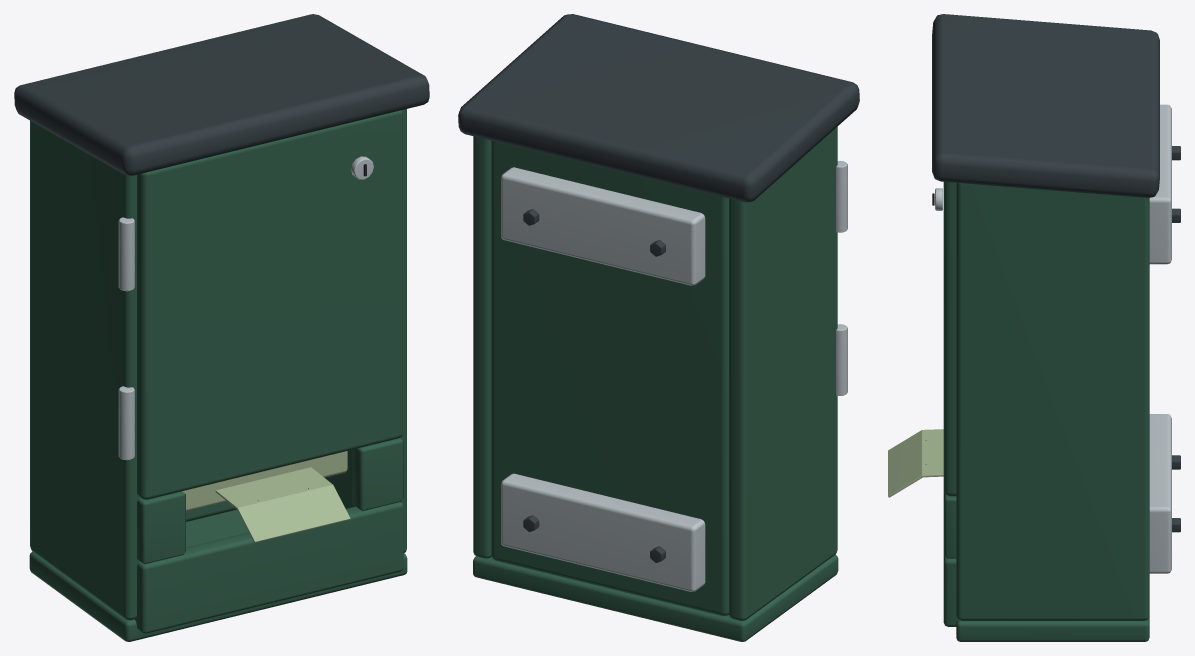
Rendered from city-pet-bag-dispenser.glb.
3 renders of one model, left to right at view 1: azimuth 30°, elevation 25°; view 2: azimuth 150°, elevation 25°; view 3: azimuth 270°, elevation 25°, orthographic. The views are drawn at different scales.
Visible parts, largest first — view 1: Refill access door, Side housing wall, Overhanging rain lid, Lower aperture sill, Folded bag pull edge, Bottom housing ledge, Pull aperture side.001, Pull aperture side, Side housing wall.001, Visible bag stack, Refill door hinge.001, Refill door hinge; view 2: Dispenser rear panel, Overhanging rain lid, Side housing wall, Rear mounting flange.001, Rear mounting flange, Bottom housing ledge, Side housing wall.001, Refill door hinge.001, Refill door hinge; view 3: Side housing wall.001, Overhanging rain lid, Refill access door, Bottom housing ledge, Rear mounting flange, Folded bag pull edge, Rear mounting flange.001, Lower aperture sill, Pull aperture side.001.
Boxes of the visible parts, bbox=[...] form: Refill access door: bbox=[137, 110, 402, 499]; Side housing wall: bbox=[30, 120, 139, 620]; Overhanging rain lid: bbox=[14, 14, 429, 175]; Lower aperture sill: bbox=[135, 502, 403, 633]; Folded bag pull edge: bbox=[215, 467, 350, 542]; Bottom housing ledge: bbox=[29, 509, 407, 641]; Pull aperture side.001: bbox=[352, 438, 403, 511]; Pull aperture side: bbox=[137, 491, 185, 564]; Side housing wall.001: bbox=[325, 109, 406, 552]; Visible bag stack: bbox=[182, 451, 347, 511]; Refill door hinge.001: bbox=[118, 217, 134, 291]; Refill door hinge: bbox=[118, 386, 134, 460]; Dispenser rear panel: bbox=[491, 140, 728, 615]; Overhanging rain lid: bbox=[458, 14, 859, 202]; Side housing wall: bbox=[729, 127, 837, 620]; Rear mounting flange.001: bbox=[501, 167, 705, 285]; Rear mounting flange: bbox=[501, 473, 705, 591]; Bottom housing ledge: bbox=[473, 554, 838, 641]; Side housing wall.001: bbox=[473, 136, 491, 558]; Refill door hinge.001: bbox=[836, 160, 847, 232]; Refill door hinge: bbox=[836, 324, 847, 395]; Side housing wall.001: bbox=[956, 183, 1149, 620]; Overhanging rain lid: bbox=[932, 14, 1159, 197]; Refill access door: bbox=[943, 182, 956, 496]; Bottom housing ledge: bbox=[956, 616, 1149, 641]; Rear mounting flange: bbox=[1149, 414, 1171, 573]; Folded bag pull edge: bbox=[888, 429, 943, 497]; Rear mounting flange.001: bbox=[1149, 104, 1171, 264]; Lower aperture sill: bbox=[943, 556, 957, 626]; Pull aperture side.001: bbox=[943, 491, 956, 558].
Size of the model in its own units: 0.304 by 0.4779 by 0.2574.
